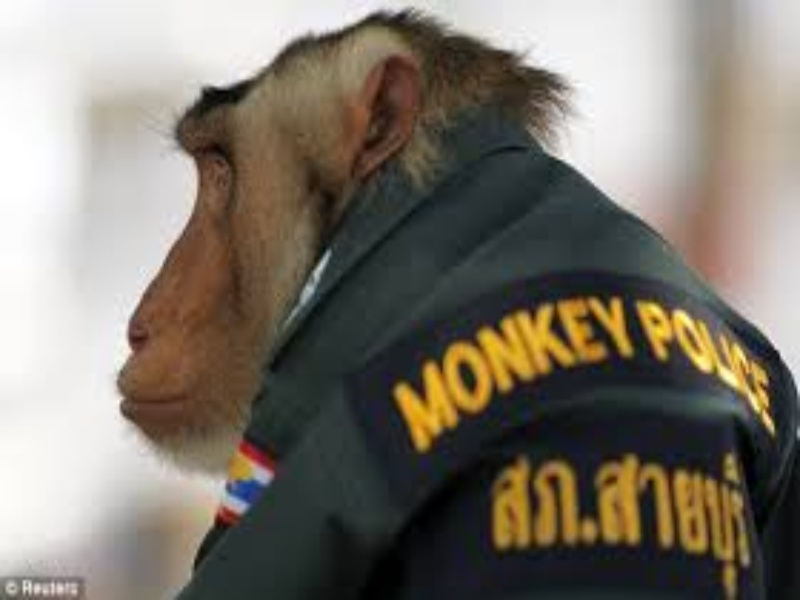monkey: (109, 6, 773, 582)
